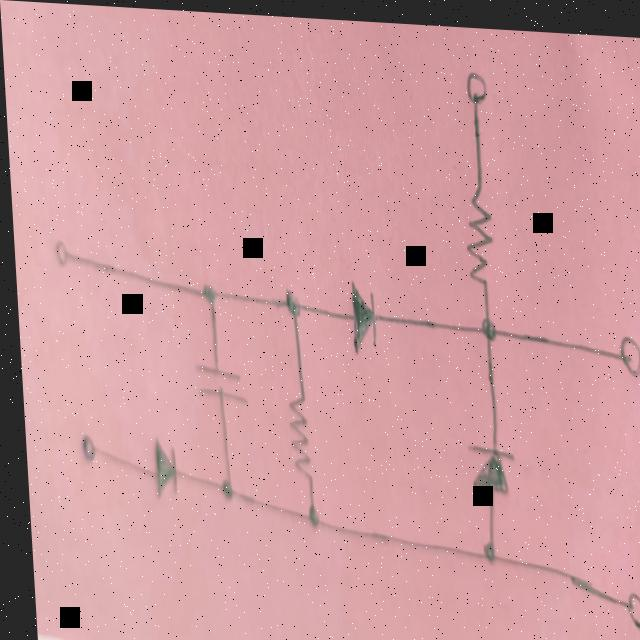capacitor: (190, 357, 243, 410)
diode: (464, 432, 511, 498), (344, 277, 375, 352), (144, 436, 174, 501)
junction: (474, 307, 495, 343), (279, 288, 299, 321), (211, 473, 233, 502), (473, 536, 496, 561), (300, 499, 317, 531), (197, 276, 215, 306)
resistor: (459, 182, 494, 293), (280, 387, 311, 488)
terminal: (462, 61, 491, 107), (614, 329, 639, 372), (616, 585, 640, 628), (74, 430, 97, 468), (53, 238, 69, 269)
